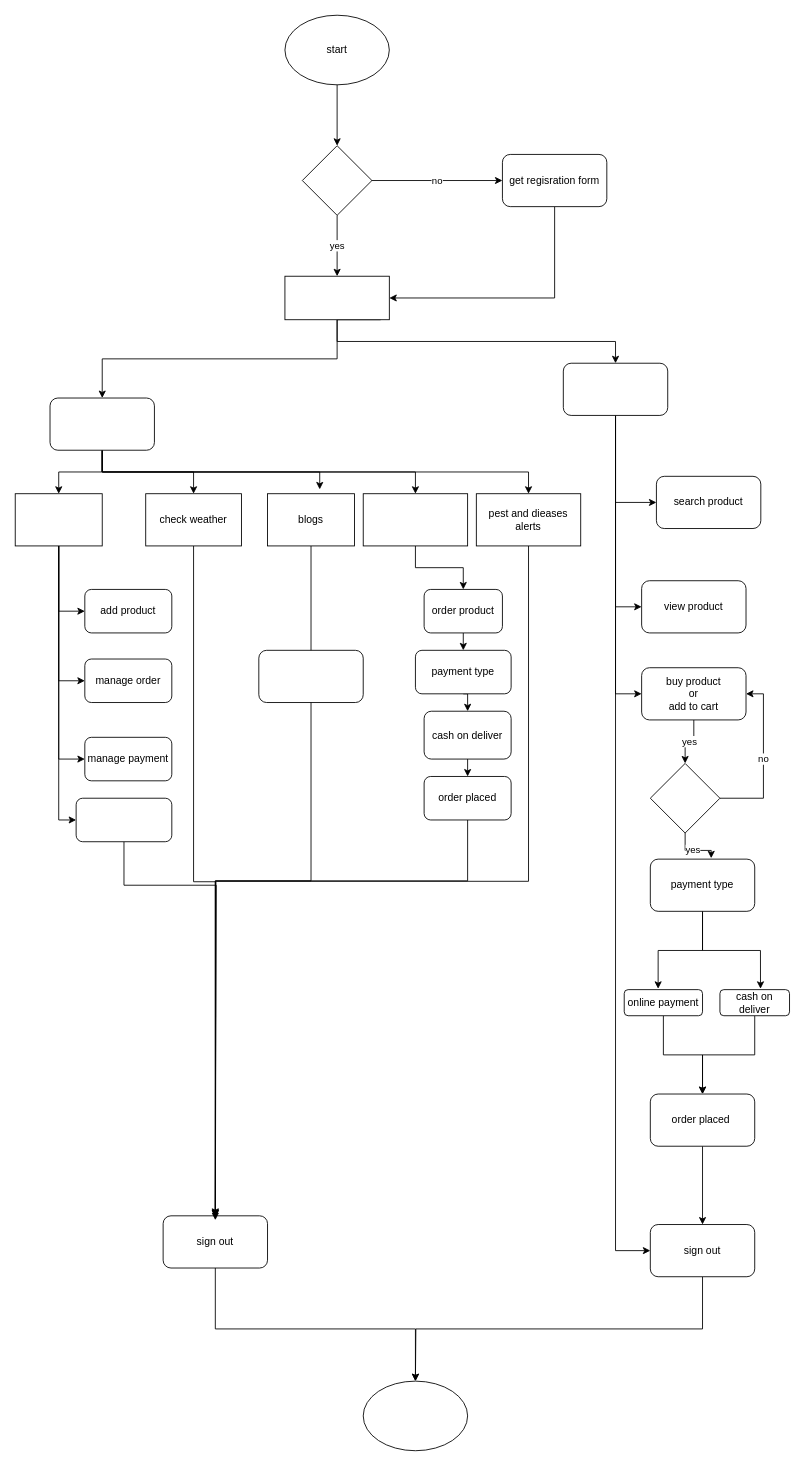
Image size: 805x1466. Some labels were removed from this diagram. The shapes that lost their labels are listed below. From the top down, each one's centre as x and y in pixels, then its label:
At (x=336, y=180): "user is loggged in".
At (x=336, y=297): "main menu".
At (x=615, y=388): "login as customer".
At (x=101, y=423): "login as farmer".
At (x=58, y=519): "sell product".
At (x=415, y=519): "order fertilizer".
At (x=310, y=676): "view blogs".
At (x=684, y=798): "make payment".
At (x=123, y=819): "check feedback".
At (x=415, y=1415): "end".
